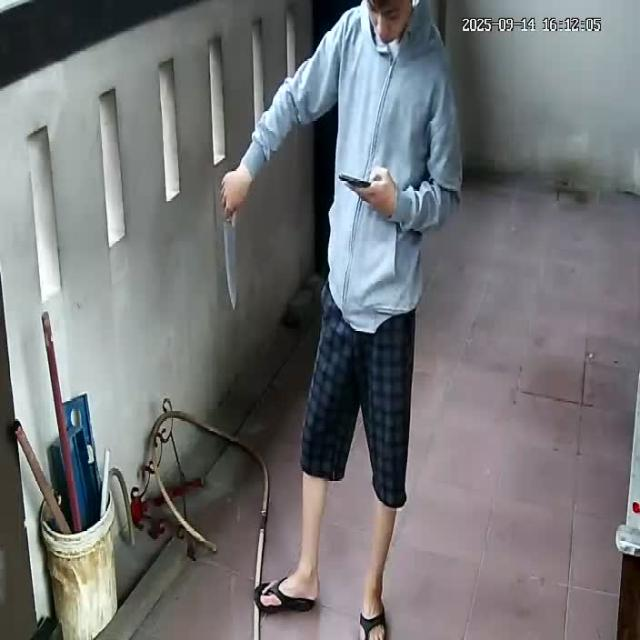senjata_tajam: (224, 217, 239, 316)
